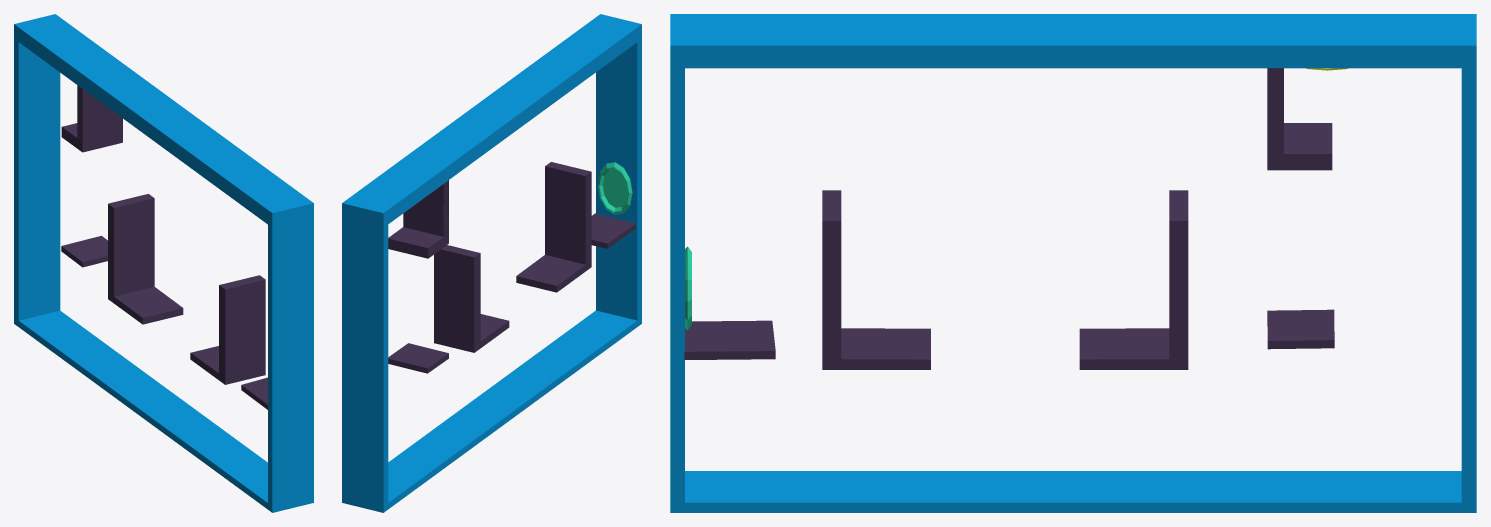
The model's file is SalaB.glb.
3 renders of one model, left to right at view 1: azimuth 30°, elevation 25°; view 2: azimuth 150°, elevation 25°; view 3: azimuth 270°, elevation 25°, orthographic. The views are drawn at different scales.
Parts seen in each view (by area): view 1: MeshB-col, plataforma.009-col, plataforma.011-col, plataforma.010-col, plataforma-col; view 2: MeshB-col, plataforma.009-col, plataforma.011-col, portalVerde.001, plataforma.010-col, plataforma-col; view 3: MeshB-col, plataforma.009-col, plataforma.011-col, plataforma-col, plataforma.010-col.
Part boxes in pixels (box(x1,y1,x2,y2)): MeshB-col: box(14, 14, 313, 512); plataforma.009-col: box(108, 194, 265, 384); plataforma.011-col: box(61, 85, 122, 152); plataforma.010-col: box(61, 236, 107, 267); plataforma-col: box(241, 377, 267, 409); MeshB-col: box(342, 14, 641, 512); plataforma.009-col: box(434, 162, 591, 352); plataforma.011-col: box(388, 180, 448, 258); portalVerde.001: box(597, 162, 632, 214); plataforma.010-col: box(388, 343, 448, 373); plataforma-col: box(591, 213, 635, 248); MeshB-col: box(670, 14, 1476, 512); plataforma.009-col: box(822, 190, 1188, 369); plataforma.011-col: box(1267, 68, 1332, 170); plataforma-col: box(684, 320, 775, 359); plataforma.010-col: box(1267, 309, 1334, 349).
Bounding box in the file's own units: 12.55 × 85.46 × 134.
